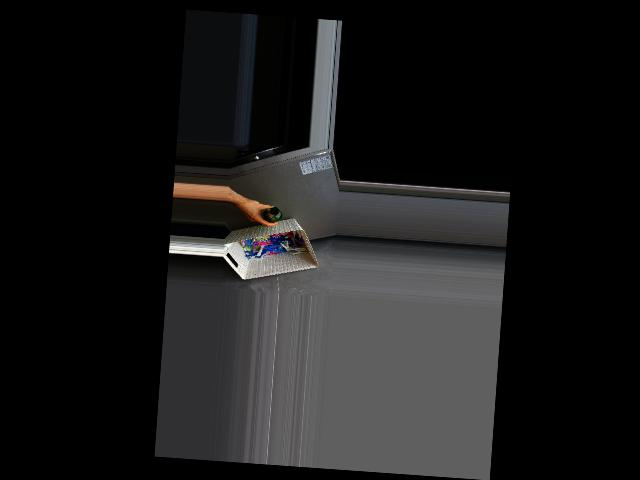beer: (261, 205, 283, 223)
